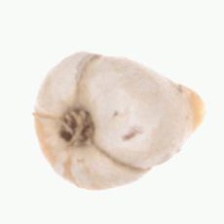L4: (32, 52, 205, 190)
